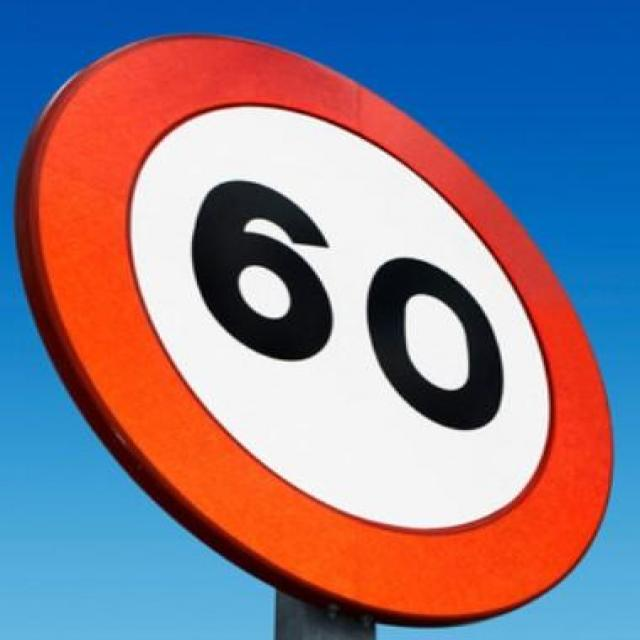speed_limit_60: (13, 29, 608, 625)
